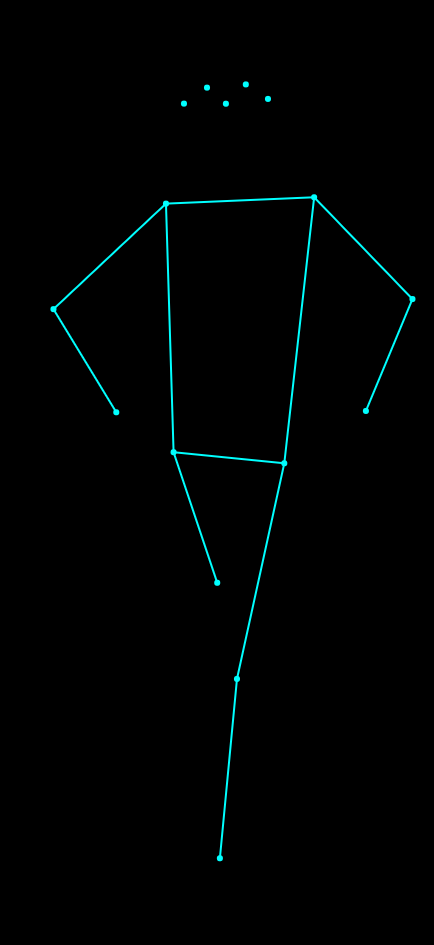tree: (45, 51, 419, 878)
